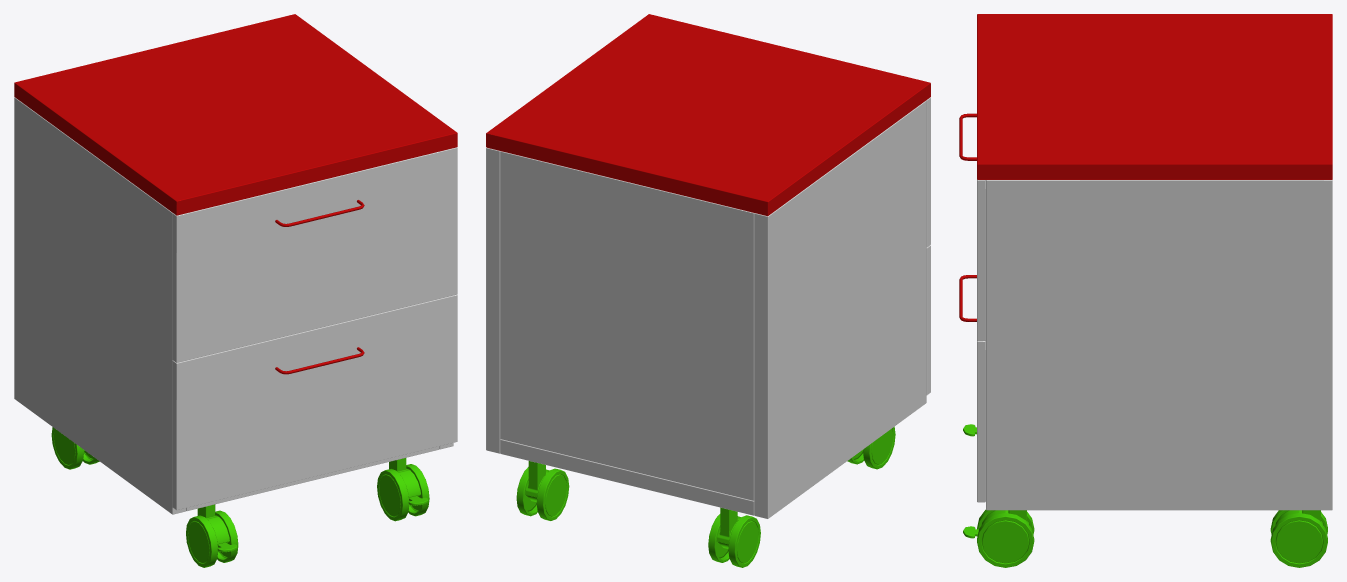
File: UnderBench01c.fbx
3 renders of one model, left to right at view 1: azimuth 30°, elevation 25°; view 2: azimuth 150°, elevation 25°; view 3: azimuth 270°, elevation 25°, orthographic. The views are drawn at different scales.
Parts seen in each view (by area): view 1: UnderBench01c, Drawer01, Drawer02; view 2: UnderBench01c, Drawer01, Drawer02; view 3: UnderBench01c, Drawer01, Drawer02.
Part boxes in pixels (x1=…): UnderBench01c: x1=14, y1=14, x2=457, y2=567; Drawer01: x1=172, y1=147, x2=457, y2=362; Drawer02: x1=172, y1=294, x2=457, y2=510; UnderBench01c: x1=486, y1=14, x2=930, y2=567; Drawer01: x1=926, y1=97, x2=930, y2=247; Drawer02: x1=926, y1=245, x2=930, y2=394; UnderBench01c: x1=963, y1=14, x2=1332, y2=567; Drawer01: x1=959, y1=113, x2=985, y2=340; Drawer02: x1=959, y1=275, x2=985, y2=502.
Bounding box in the file's own units: 50 × 52.5 × 65.
